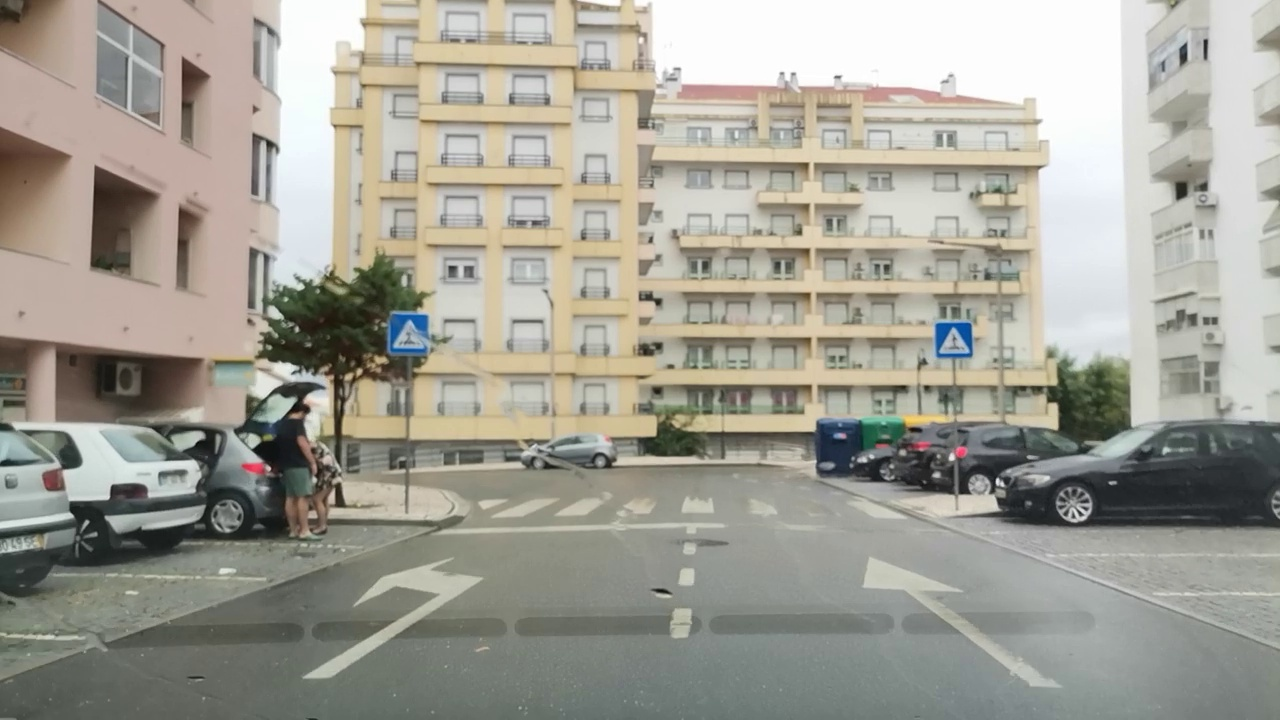Stairs: (475, 494, 904, 517)
